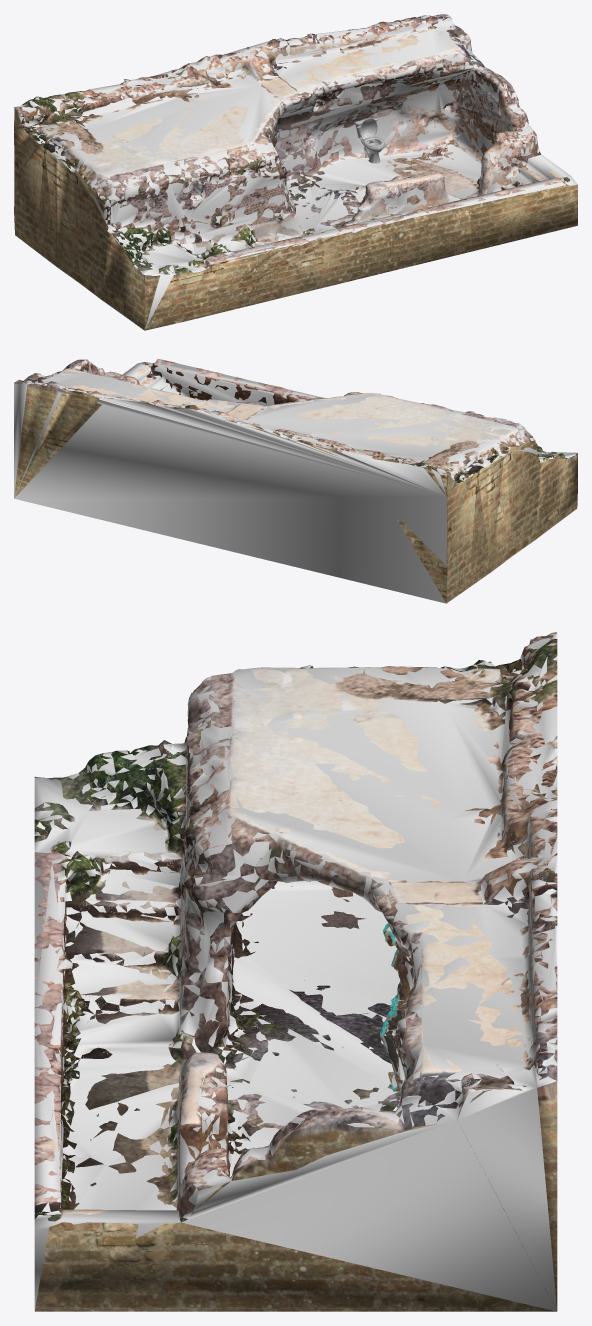
The model's file is cisterna.glb.
3 renders of one model, top to bottom at view 1: azimuth 30°, elevation 25°; view 2: azimuth 150°, elevation 25°; view 3: azimuth 270°, elevation 25°, orthographic. The views are drawn at different scales.
Parts seen in each view (by area): view 1: cisterna, cisterna_col; view 2: cisterna_col, cisterna; view 3: cisterna_col, cisterna.
Boxes of the visible parts, bbox=[...] form: cisterna: bbox=[14, 14, 577, 330]; cisterna_col: bbox=[14, 15, 577, 329]; cisterna_col: bbox=[14, 359, 576, 603]; cisterna: bbox=[14, 359, 577, 603]; cisterna_col: bbox=[34, 633, 557, 1311]; cisterna: bbox=[34, 632, 557, 1311].
Size of the model in its own units: 22.26 by 6.64 by 11.62.
Materials: 4 (4 with a texture image).
